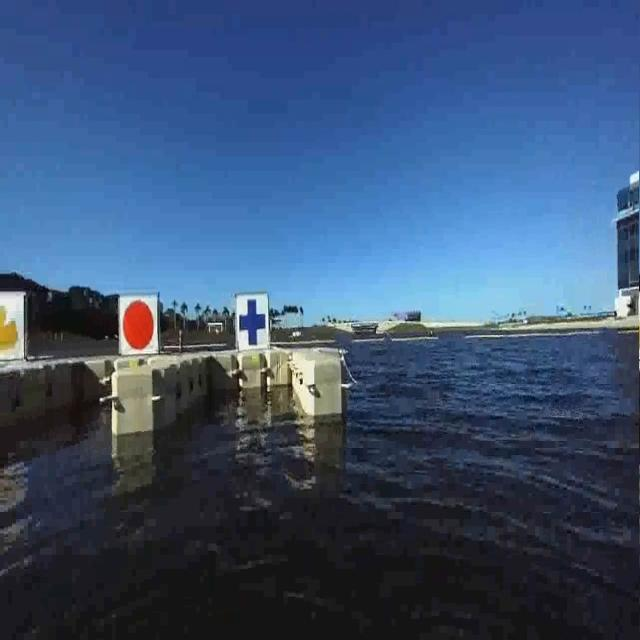blue-cross: (235, 288, 270, 350)
red-dot: (118, 290, 158, 355)
yellow-duck: (0, 285, 24, 367)
